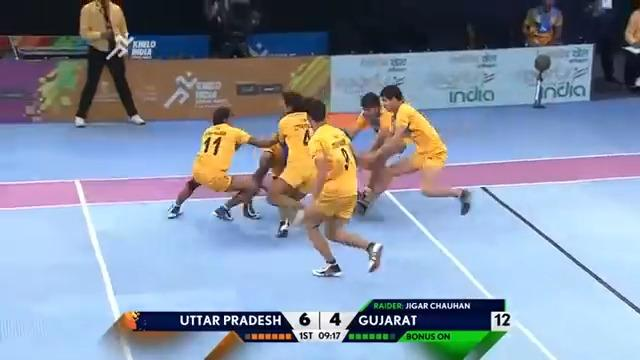Player: (353, 83, 474, 219), (297, 96, 385, 278), (165, 103, 279, 222), (265, 91, 317, 193)
referee: (73, 0, 146, 127)
